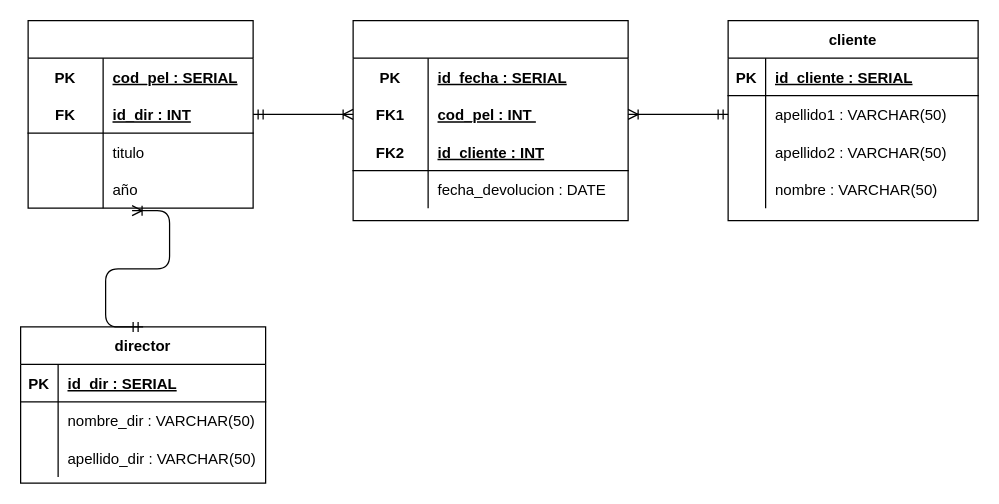
Some shapes in this 999 by 504 pixel diagram are drawn without their labels. The shapes that lost their labels are listed below. From the top down, each one's box as (x1, y1, x2, y2) in pixels, then its label:
(27, 19, 253, 208): pelicula
(352, 19, 628, 221): pedido
